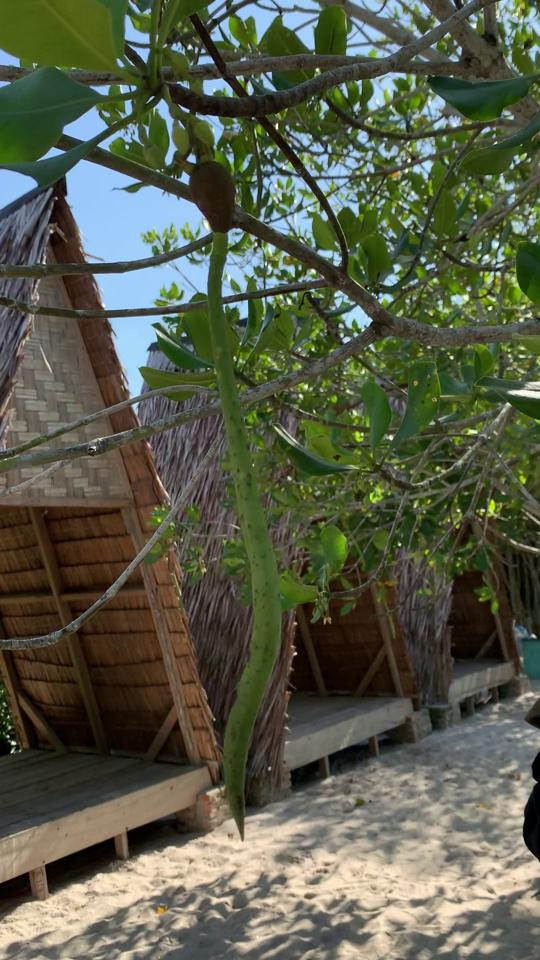setengah matang: (174, 149, 301, 844)
